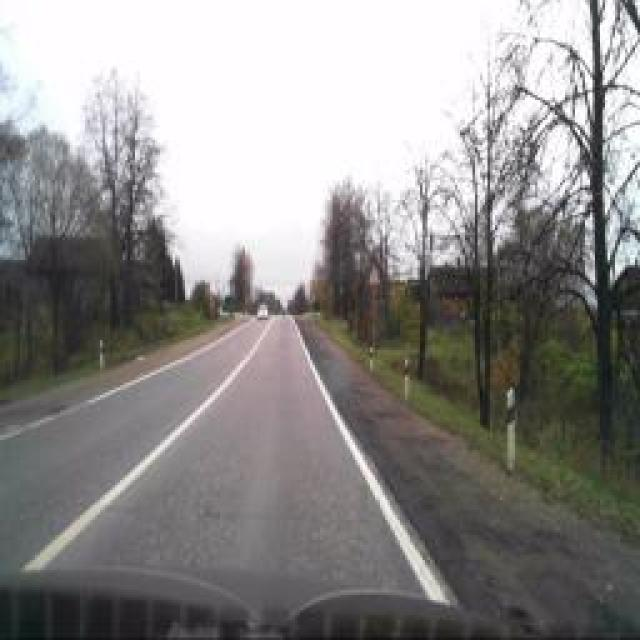sign: (369, 265, 379, 285)
